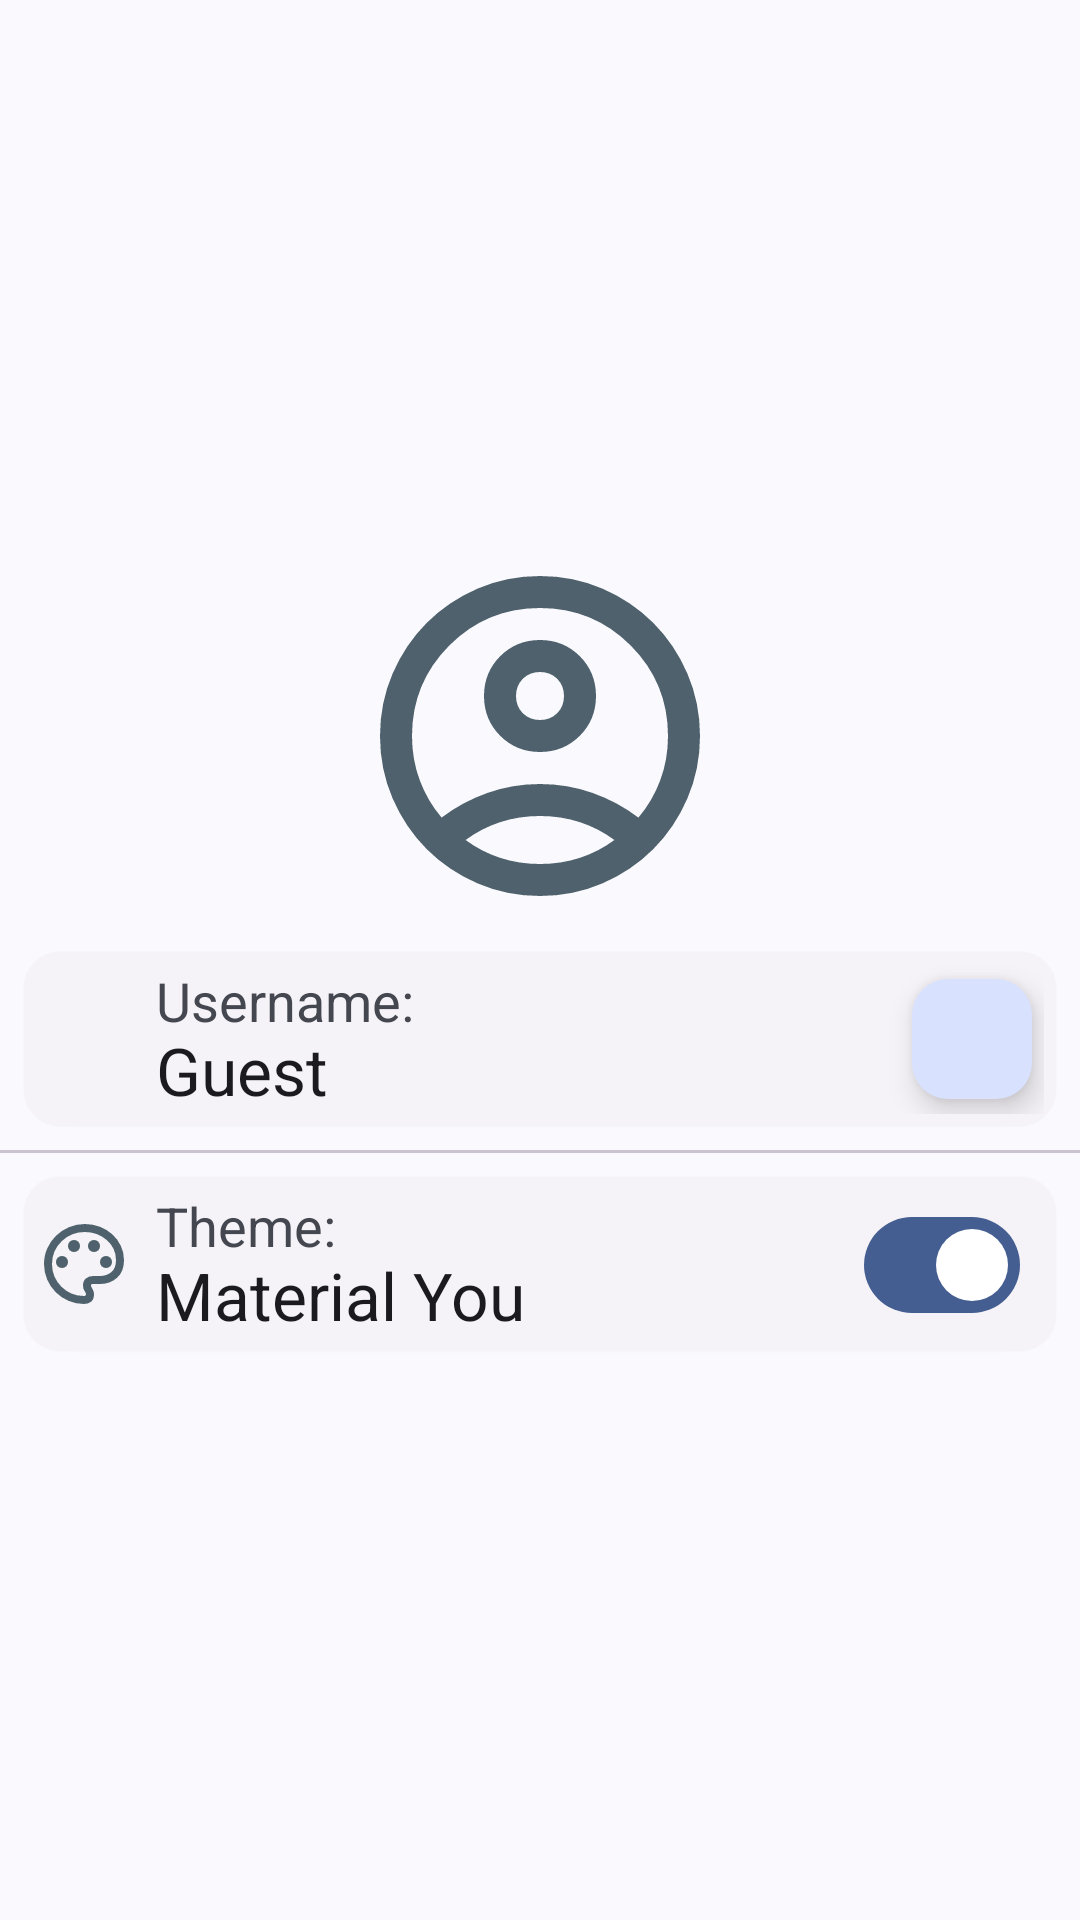

Point at icon controls on the screen. Image size 1080px x 1920px, points as (x=x, y=y).
palette: (x=84, y=1264)
